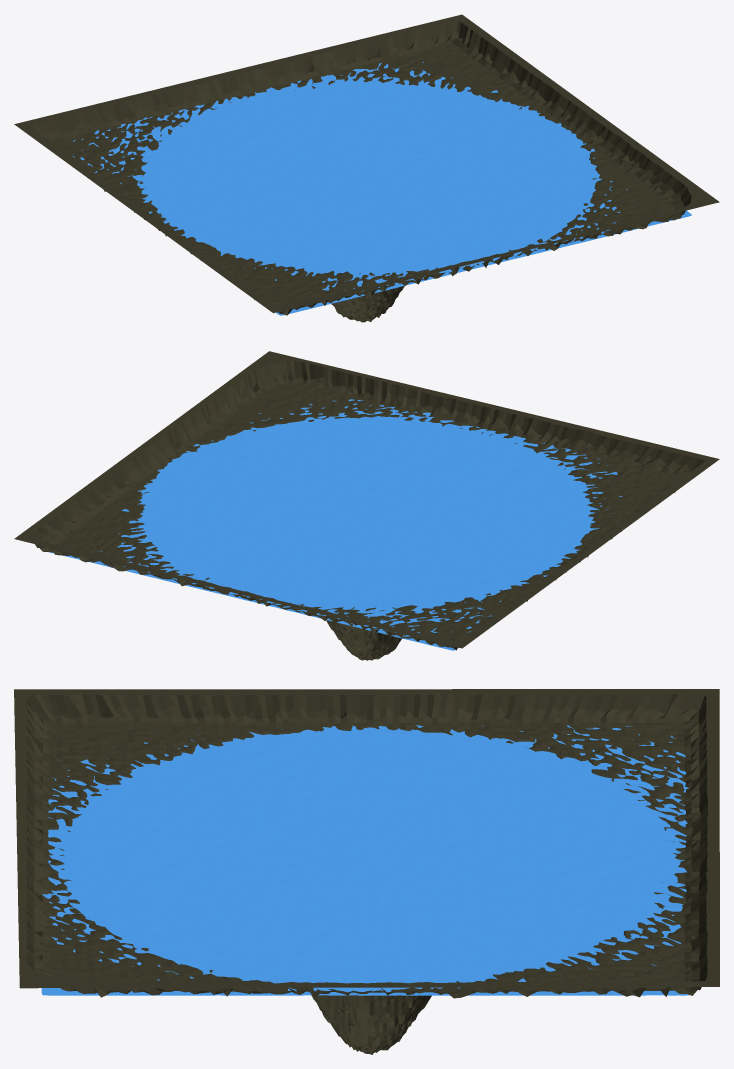
Rendered from Ocean.glb.
3 views of the same model, one above another, from view 1: azimuth 30°, elevation 25°; view 2: azimuth 150°, elevation 25°; view 3: azimuth 270°, elevation 25° (orthographic). The views are drawn at different scales.
Parts seen in each view (by area): view 1: Surface, Floor; view 2: Surface, Floor; view 3: Surface, Floor.
Part boxes in pixels (box(x1,y1,x2,y2)): Surface: box(71, 61, 691, 315); Floor: box(14, 14, 719, 322); Surface: box(48, 399, 622, 650); Floor: box(14, 351, 719, 660); Surface: box(41, 725, 689, 995); Floor: box(14, 689, 719, 1054).
Size of what is drawn, in the model's own units: 2913 by 979 by 2904.
